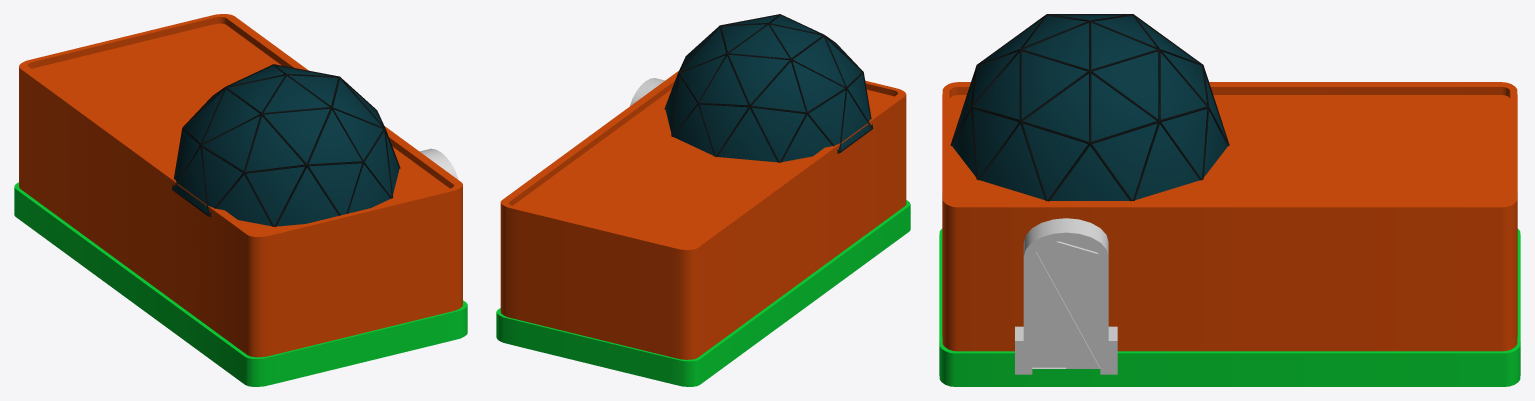
Rendered from maison_rectangle.fbx.
3 views of the same model, side by side, from view 1: azimuth 30°, elevation 25°; view 2: azimuth 150°, elevation 25°; view 3: azimuth 270°, elevation 25° (orthographic). The views are drawn at different scales.
Visible parts, largest first — view 1: Cube.041, Icosphere.004, Icosphere.005, Cube.046; view 2: Cube.041, Icosphere.004, Icosphere.005; view 3: Cube.041, Icosphere.004, Cube.049, Icosphere.005, Cube.046.
Part boxes in pixels (x1,y1,x2,y2): Cube.041: [14, 14, 467, 386]; Icosphere.004: [174, 65, 399, 226]; Icosphere.005: [172, 64, 400, 226]; Cube.046: [419, 148, 458, 179]; Cube.041: [496, 71, 910, 386]; Icosphere.004: [665, 15, 871, 162]; Icosphere.005: [664, 14, 873, 162]; Cube.041: [939, 82, 1520, 386]; Icosphere.004: [952, 15, 1227, 200]; Cube.049: [1032, 240, 1100, 368]; Icosphere.005: [950, 14, 1229, 201]; Cube.046: [1015, 218, 1117, 374].
Size of the model in its own units: 428 by 415 by 742.
